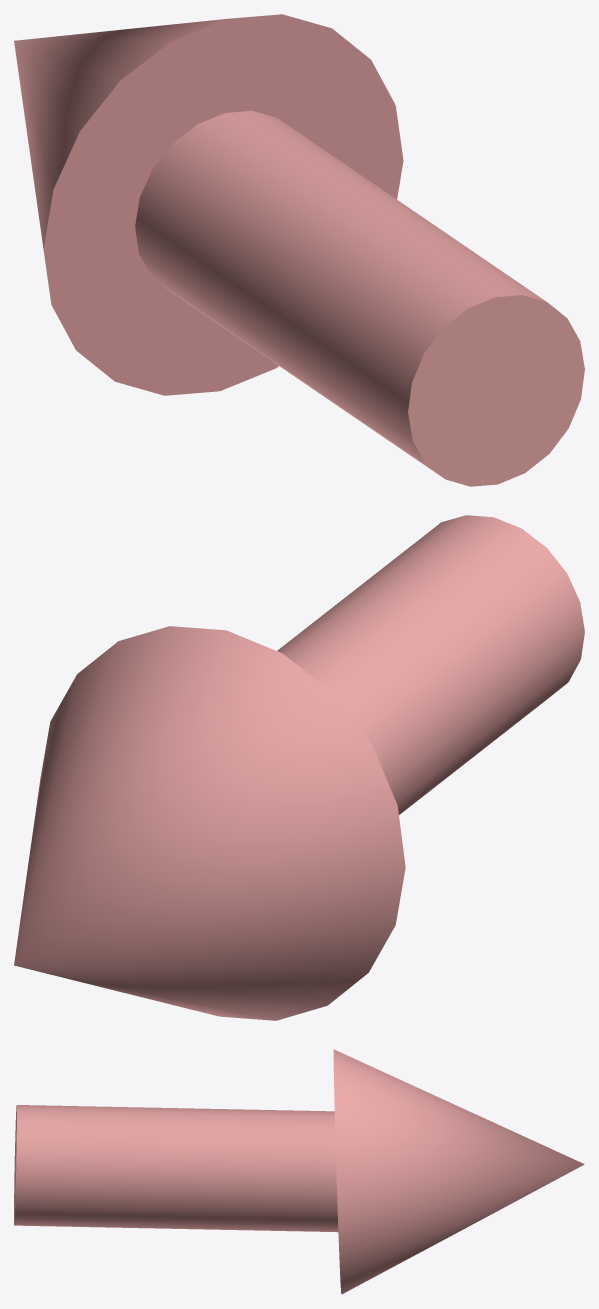
The model's file is yajirushi.fbx.
3 renders of one model, top to bottom at view 1: azimuth 30°, elevation 25°; view 2: azimuth 150°, elevation 25°; view 3: azimuth 270°, elevation 25°, orthographic. The views are drawn at different scales.
Visible parts, largest first — view 1: pCylinder1, pCone1; view 2: pCone1, pCylinder1; view 3: pCylinder1, pCone1.
Part boxes in pixels (bbox=[...]): pCylinder1: bbox=[135, 110, 584, 486]; pCone1: bbox=[14, 14, 403, 395]; pCone1: bbox=[14, 626, 405, 1020]; pCylinder1: bbox=[277, 515, 584, 814]; pCylinder1: bbox=[14, 1105, 338, 1232]; pCone1: bbox=[333, 1049, 584, 1294].
Size of the model in its own units: 2 by 2 by 4.61.
